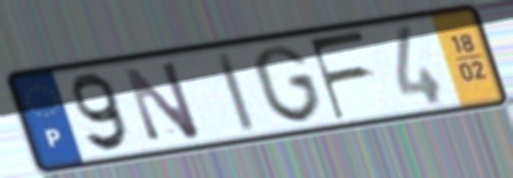4: (394, 21, 447, 109)
9: (70, 70, 131, 154)
F: (306, 27, 374, 124)
G: (250, 42, 326, 125)
I: (213, 48, 260, 134)
N: (120, 57, 206, 144)
